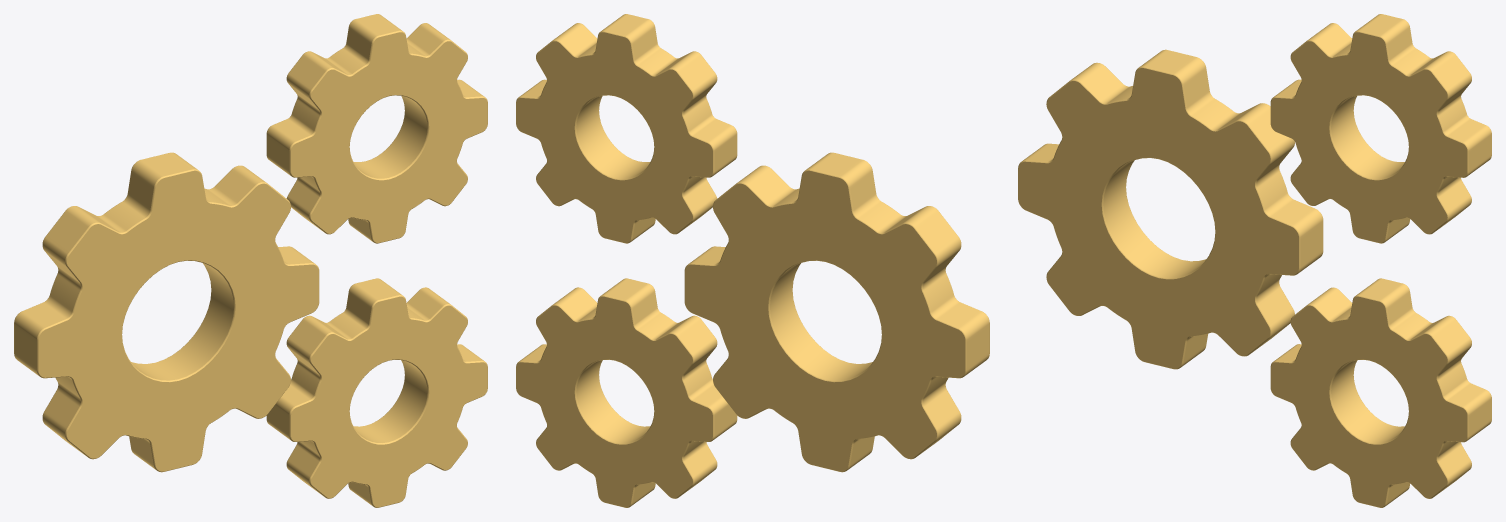
File: 1gears.glb
3 views of the same model, side by side, from view 1: azimuth 30°, elevation 25°; view 2: azimuth 150°, elevation 25°; view 3: azimuth 330°, elevation 25° (orthographic).
Visible parts, largest first — view 1: Object_2, Object_7, Object_4, Object_6, Object_3; view 2: Object_2, Object_7, Object_4, Object_8, Object_5; view 3: Object_2, Object_7, Object_4, Object_6, Object_3.
Boxes of the visible parts, x1,y1,x2,y2 form: Object_2: (38, 32, 487, 507); Object_7: (14, 14, 484, 469); Object_4: (266, 278, 483, 505); Object_6: (37, 30, 487, 472); Object_3: (289, 295, 487, 507); Object_2: (516, 32, 965, 507); Object_7: (519, 14, 989, 469); Object_4: (520, 278, 737, 505); Object_8: (516, 30, 966, 472); Object_5: (516, 295, 714, 507); Object_2: (1018, 32, 1467, 507); Object_7: (1023, 14, 1491, 366); Object_4: (1274, 278, 1491, 505); Object_6: (1018, 30, 1468, 369); Object_3: (1270, 295, 1468, 507).
Size of the model in its own units: 2 by 2 by 0.1855.
